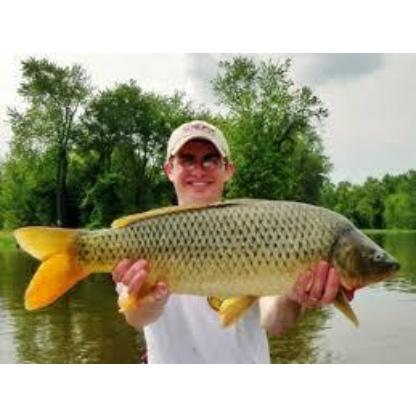ikan-mas: (14, 195, 406, 313)
